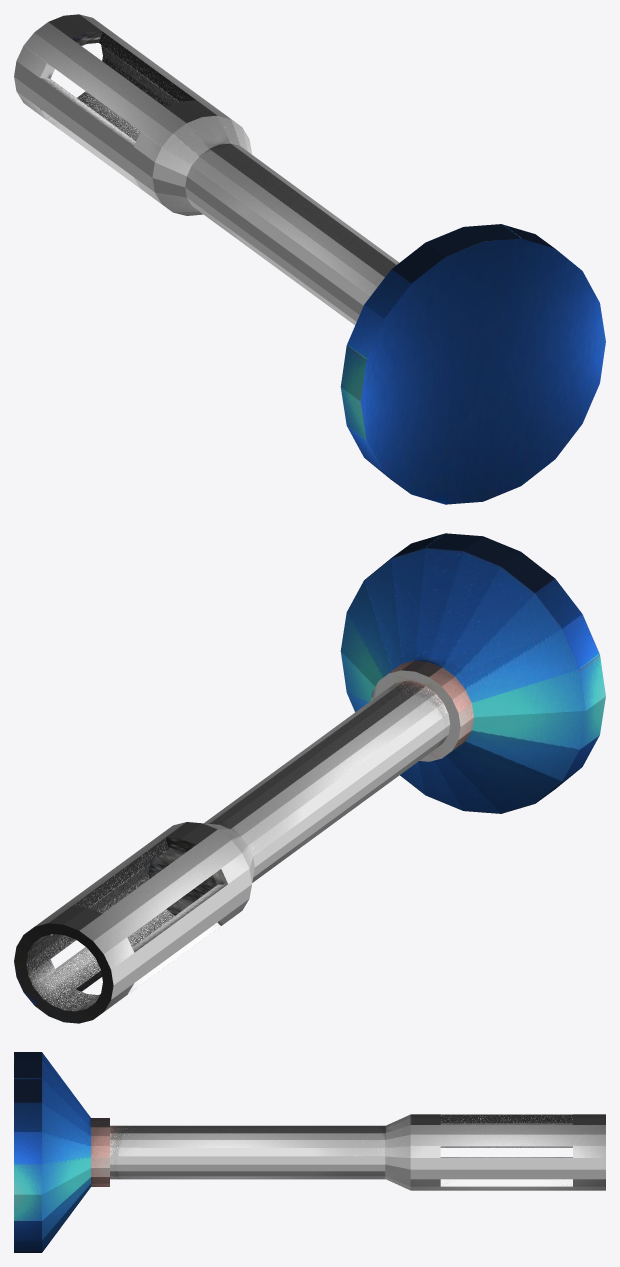
The model's file is bunsenburner4.dae.
3 views of the same model, one above another, from view 1: azimuth 30°, elevation 25°; view 2: azimuth 150°, elevation 25°; view 3: azimuth 270°, elevation 25° (orthographic). The views are drawn at different scales.
Parts seen in each view (by area): view 1: Cylinder; view 2: Cylinder; view 3: Cylinder.
Boxes of the visible parts, <box> form: Cylinder: <box>14,14,605,504</box>; Cylinder: <box>14,533,605,1023</box>; Cylinder: <box>14,1052,605,1252</box>.
Bounding box in the file's own units: 1 × 2.97 × 1.01.
Materials: 1 (1 with a texture image).
